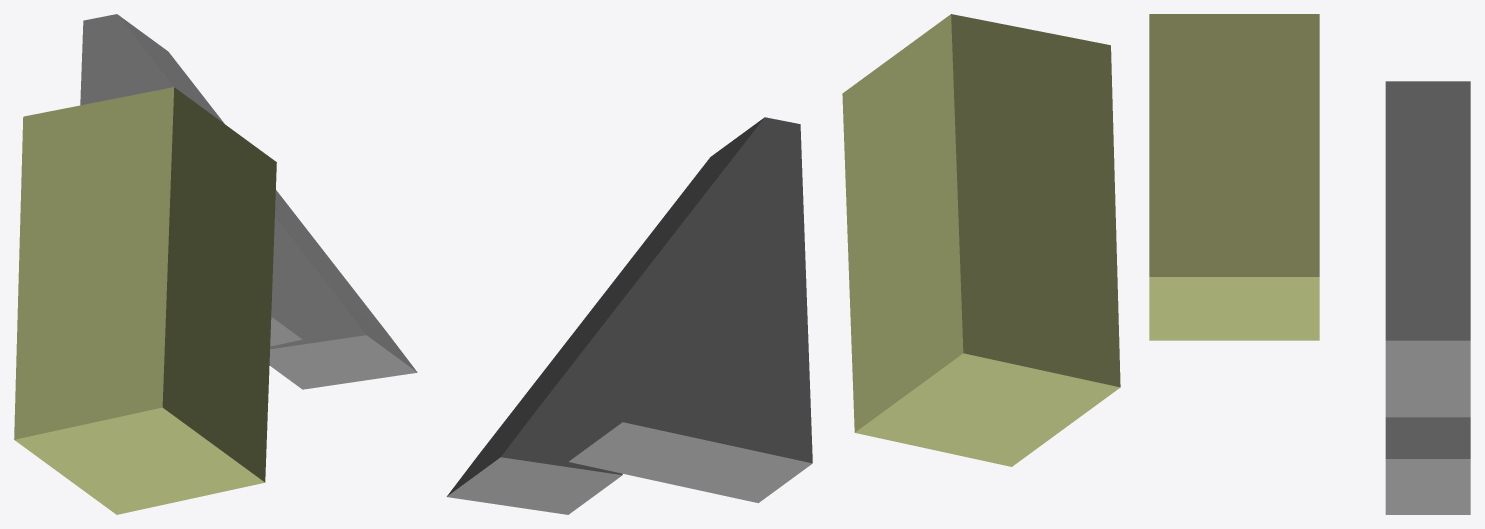
The picture shows the model from 3 angles, left to right: view 1: azimuth 30°, elevation 25°; view 2: azimuth 150°, elevation 25°; view 3: azimuth 270°, elevation 25°; orthographic projection. The views are drawn at different scales.
Parts seen in each view (by area): view 1: 0_1_2_0_0_2_1_2_1_0; view 2: 0_1_2_0_0_2_1_2_1_0; view 3: 0_1_2_0_0_2_1_2_1_0.
Boxes of the visible parts, bbox=[...] form: 0_1_2_0_0_2_1_2_1_0: bbox=[14, 14, 417, 514]; 0_1_2_0_0_2_1_2_1_0: bbox=[446, 14, 1120, 514]; 0_1_2_0_0_2_1_2_1_0: bbox=[1149, 14, 1470, 514].
Size of the model in its own units: 14.96 by 12.61 by 11.31.
